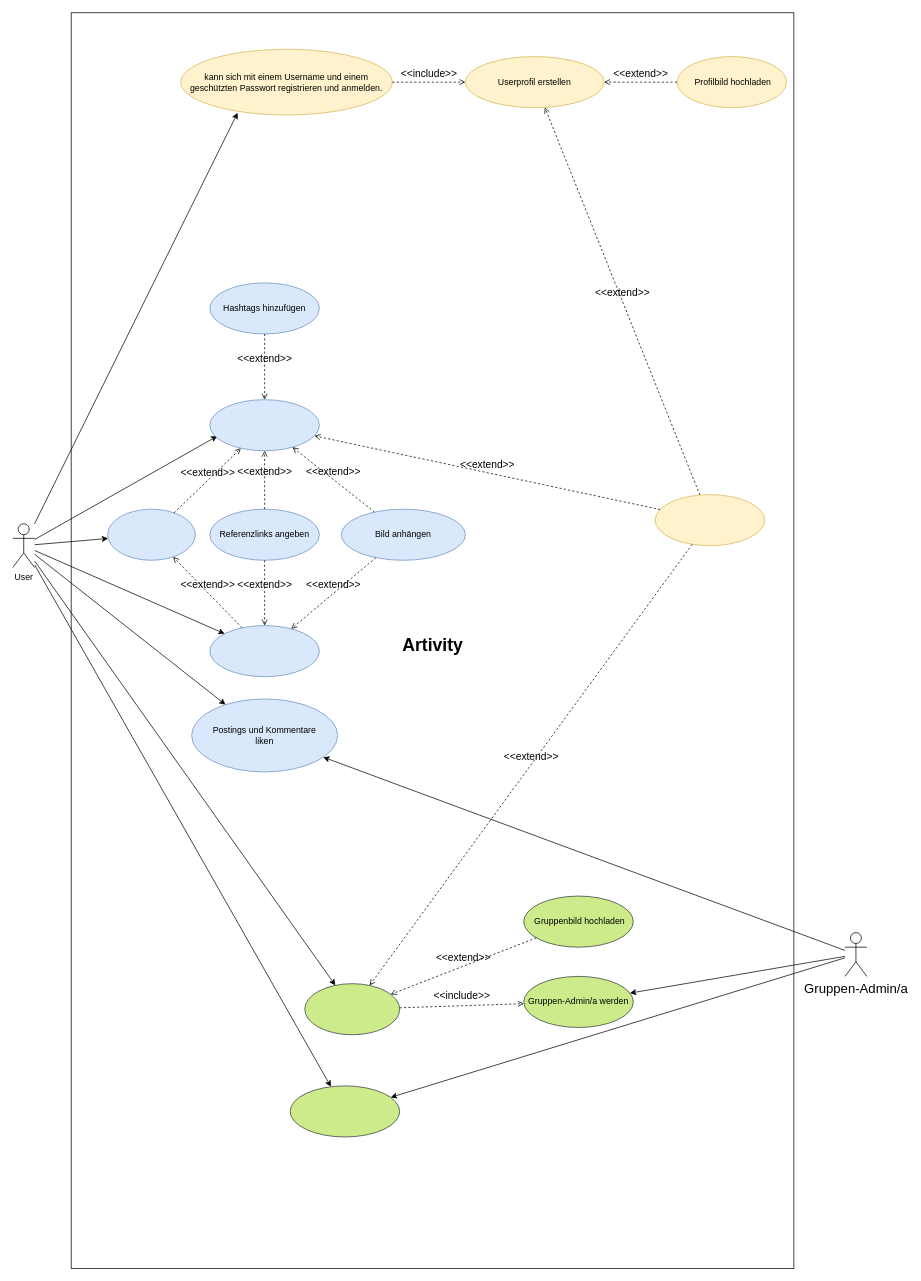
Image size: 921x1281. Some labels were removed from this diagram. The centre of each missing label's shape, as x and y in pixels:
"andere User taggen" goes at (151,534).
"Gruppe gründen" goes at (352,1009).
"Kommentare erstellen" goes at (264,651).
"Posts erstellen" goes at (264,425).
"Schlagwörter (Kunstrichtung) auswählen" goes at (709,520).
"sich in einer Gruppe organisieren" goes at (344,1111).
